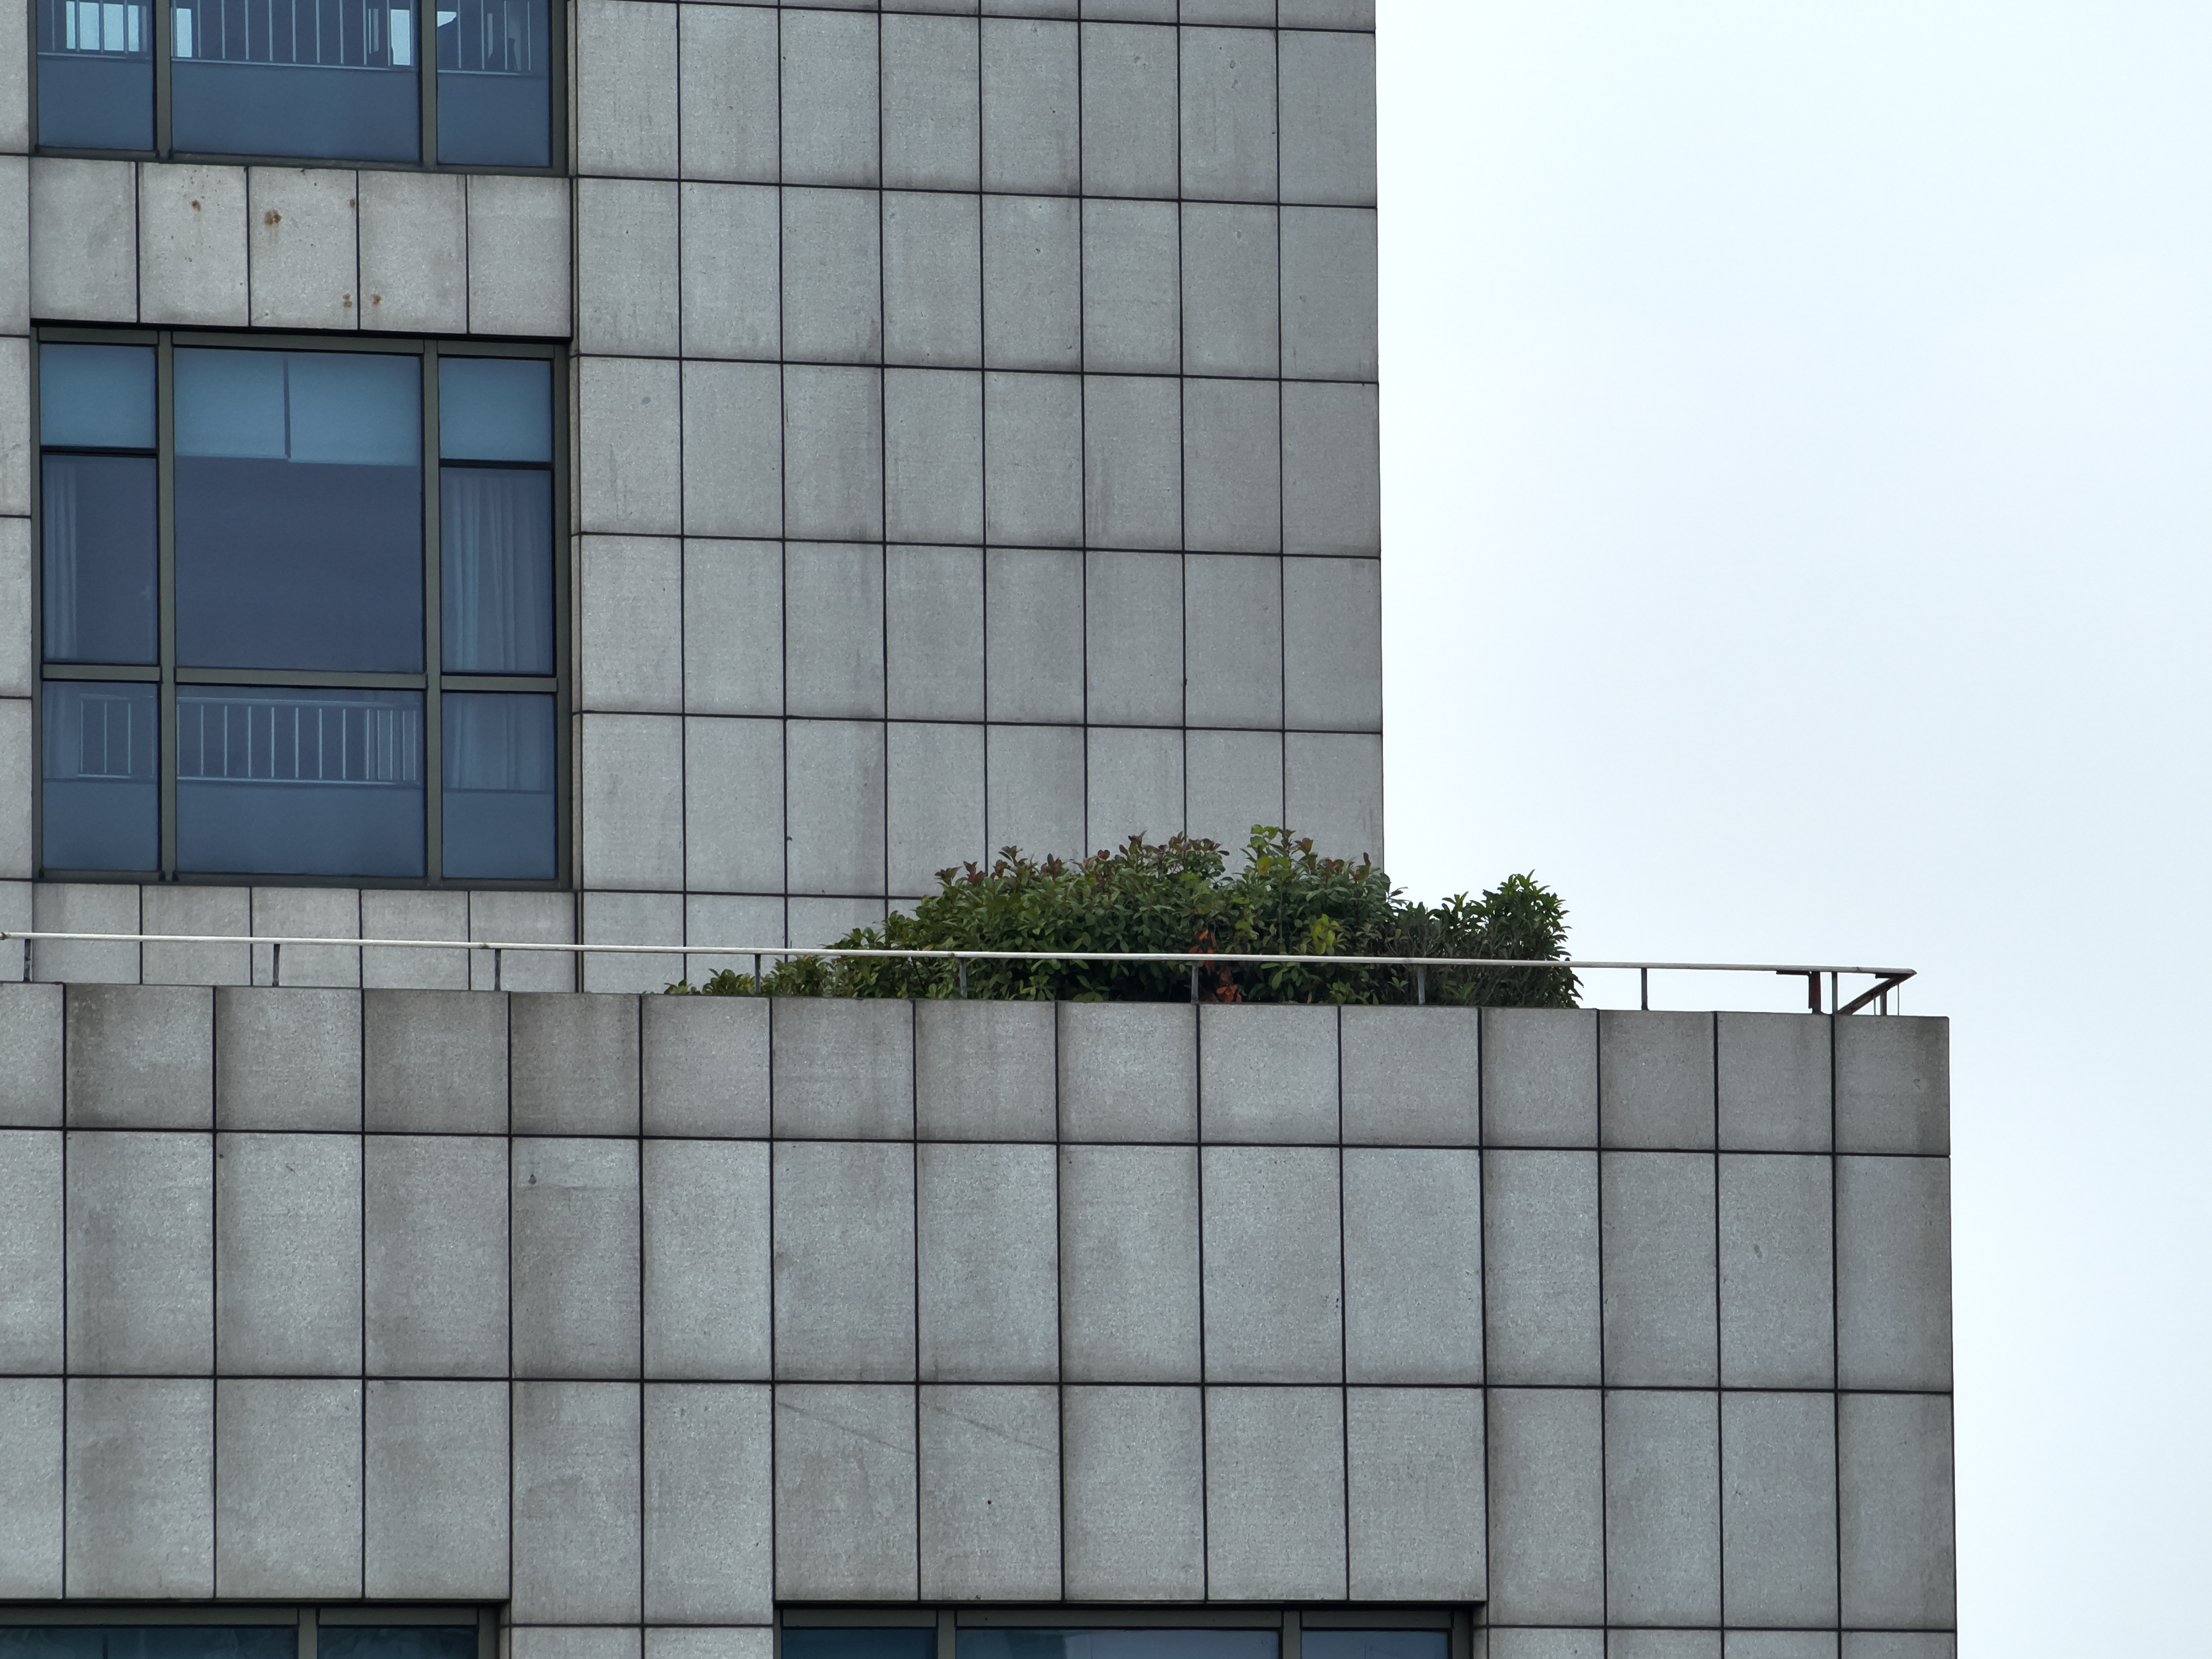spalling: (784, 833, 792, 842), (1183, 678, 1188, 688), (298, 167, 307, 173), (242, 166, 246, 173)
spot: (777, 1399, 911, 1453), (916, 1401, 1054, 1450), (261, 207, 280, 221), (190, 197, 204, 213), (340, 291, 352, 307), (1752, 1244, 1763, 1260), (371, 293, 380, 305), (350, 199, 354, 209)
